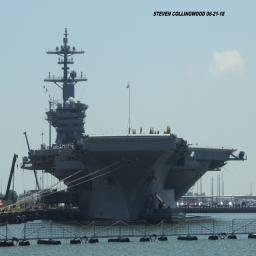Portanaves: (21, 14, 249, 229)
